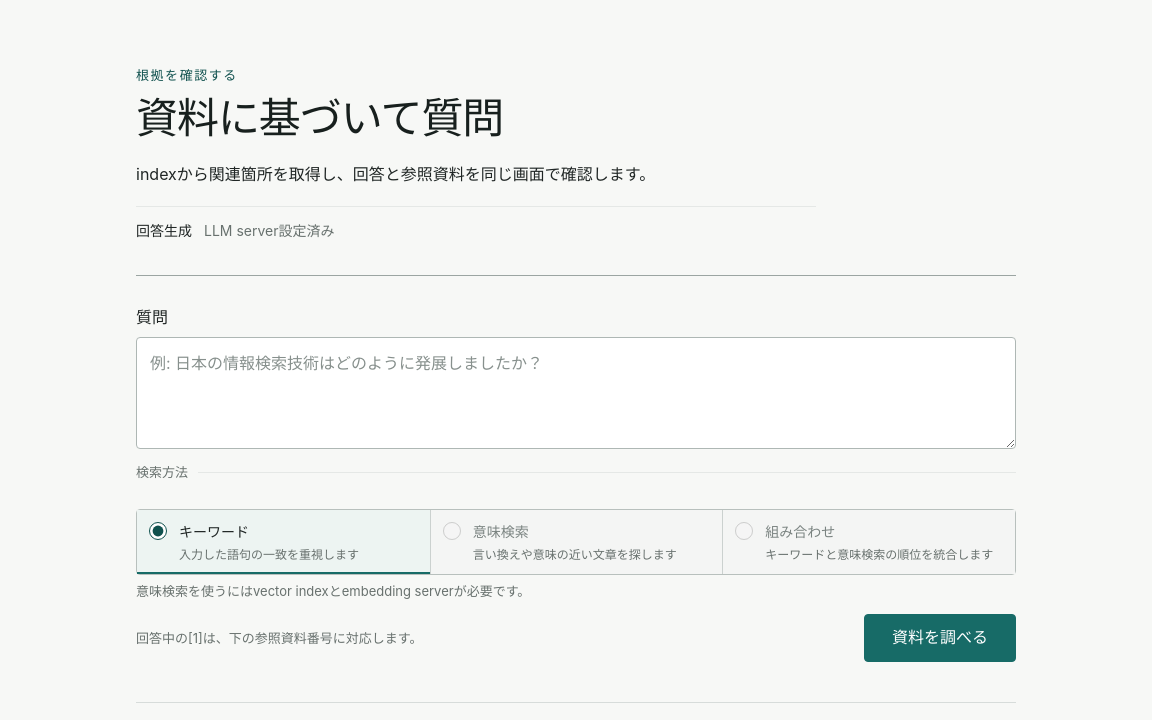
Test case: RAG document UI › shows a grounded answer and links [1] to its source
Expected: the text "LLM server設定済み" is shown, [204,219,334,243]
Type "情報検索とは？" into the text box labelled "質問" at (576, 393), box [136,337,1016,449]
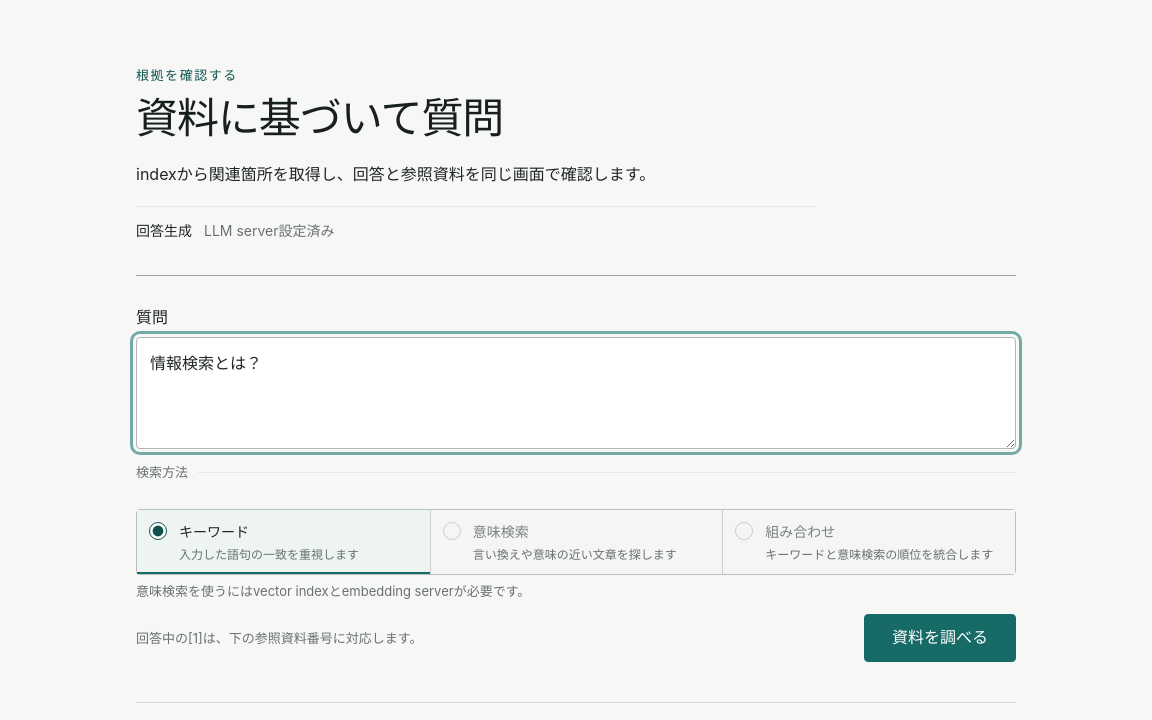
Click the button "資料を調べる" at (940, 638), box [864,614,1016,662]
(page scrolled)
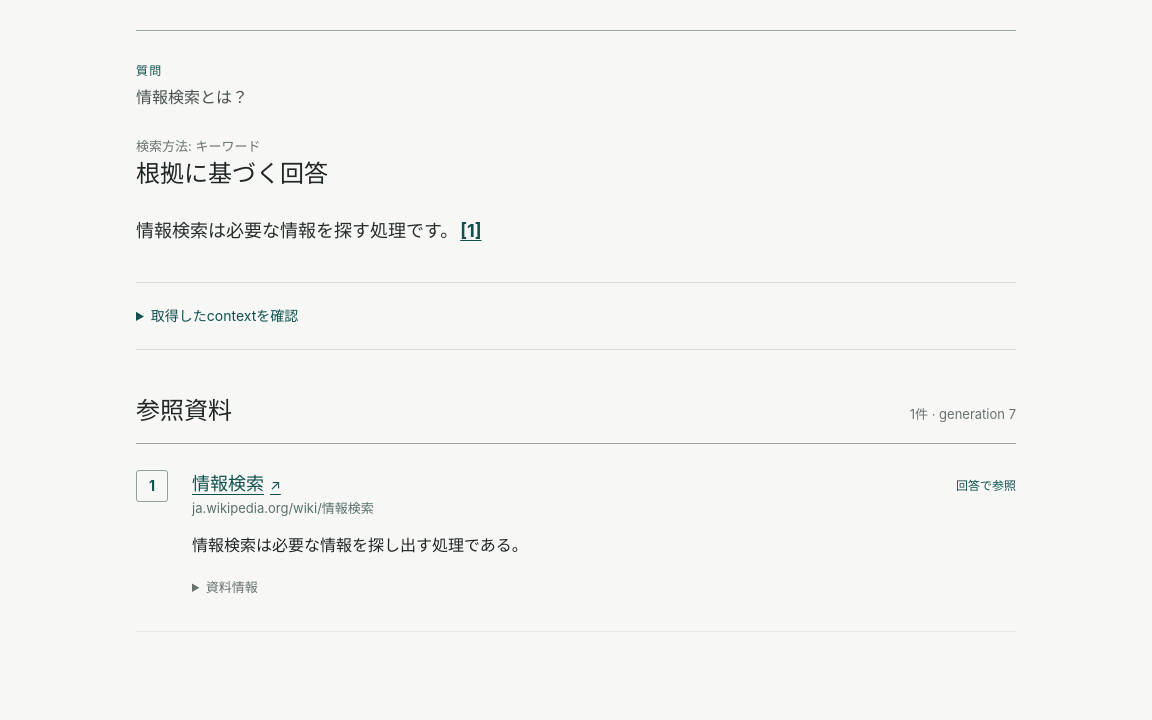
Now the text "情報検索は必要な情報を探す処理です。" is shown, box [136,220,458,241]
Now the text "回答で参照" is shown, box [956,476,1016,497]
